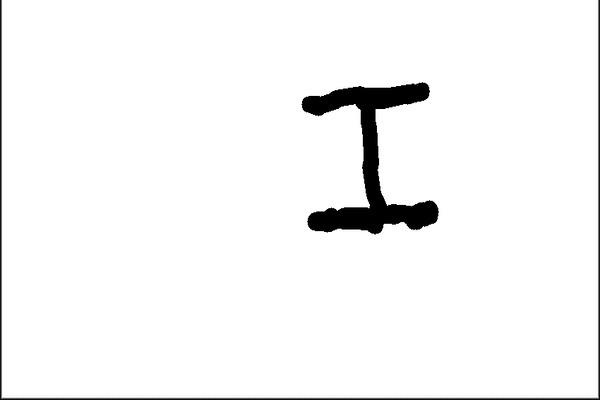i: (294, 73, 445, 247)
